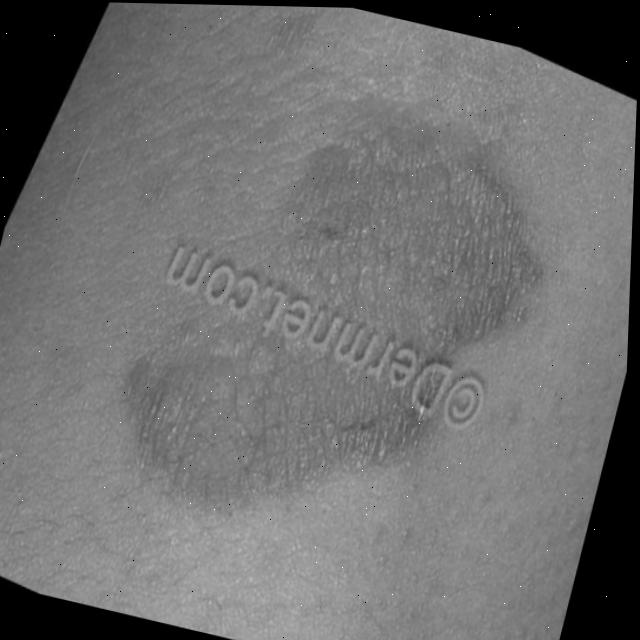Eczema: (163, 119, 533, 468)
